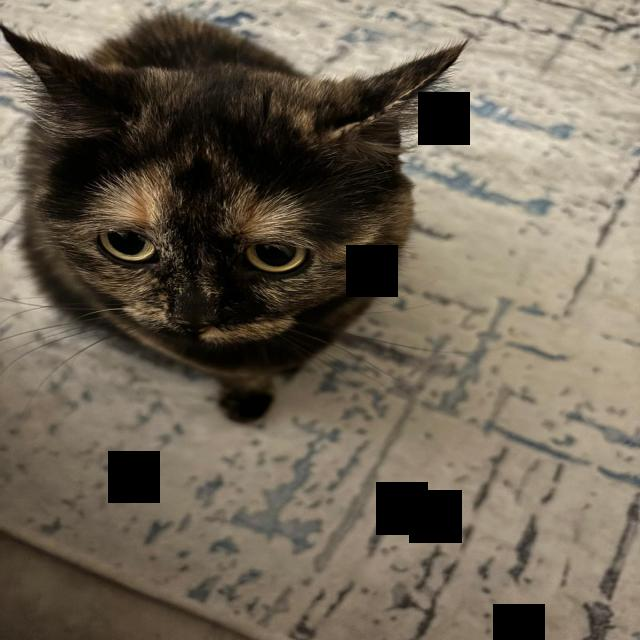authorized: (1, 8, 470, 425)
